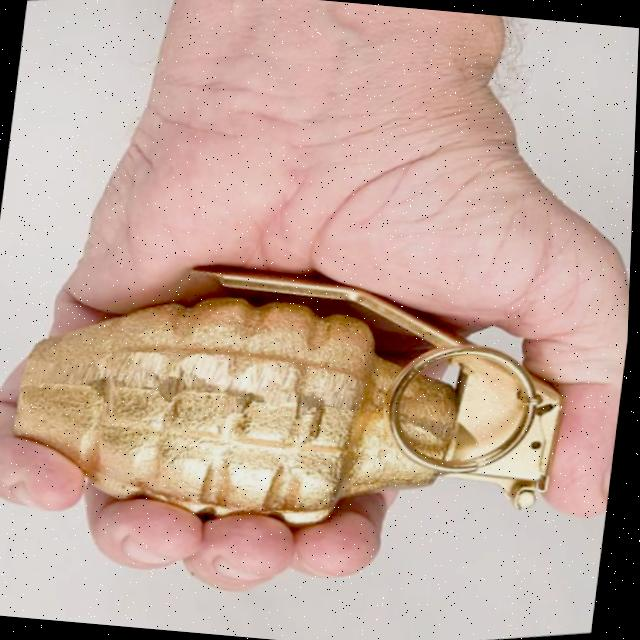grenade: (0, 181, 622, 603)
